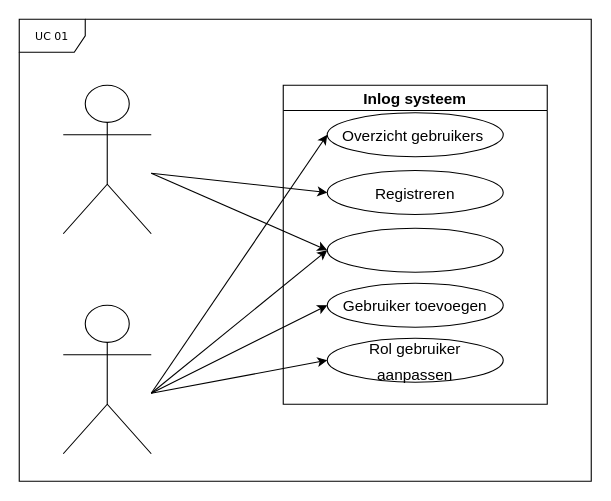
The diagram is 611 pixels wide and 501 high, and some of its shapes have lost their labels. The shapes that lost their labels are listed below. From the top down, each one's centre as x and y in pixels, then its label:
At [106,159]: "Gebruiker".
At [414,249]: "Inloggen".
At [106,379]: "Admin".
